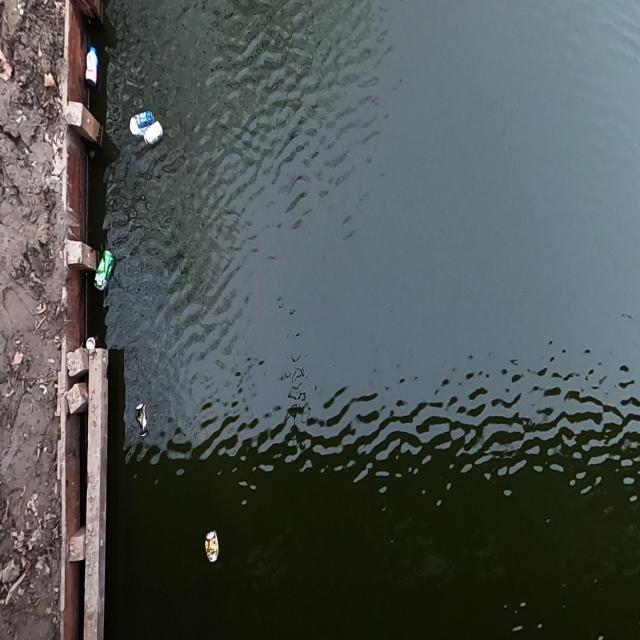Non plastique: (124, 100, 162, 149), (134, 107, 167, 155), (91, 248, 118, 299), (200, 523, 226, 573), (132, 398, 152, 447)
